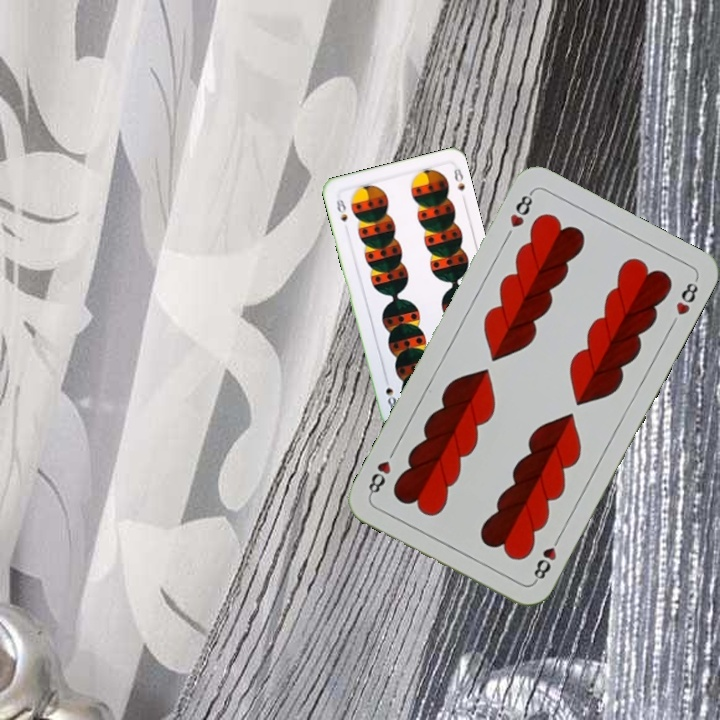H8: (529, 531, 564, 585), (505, 187, 536, 230)
S8: (332, 191, 350, 224)
